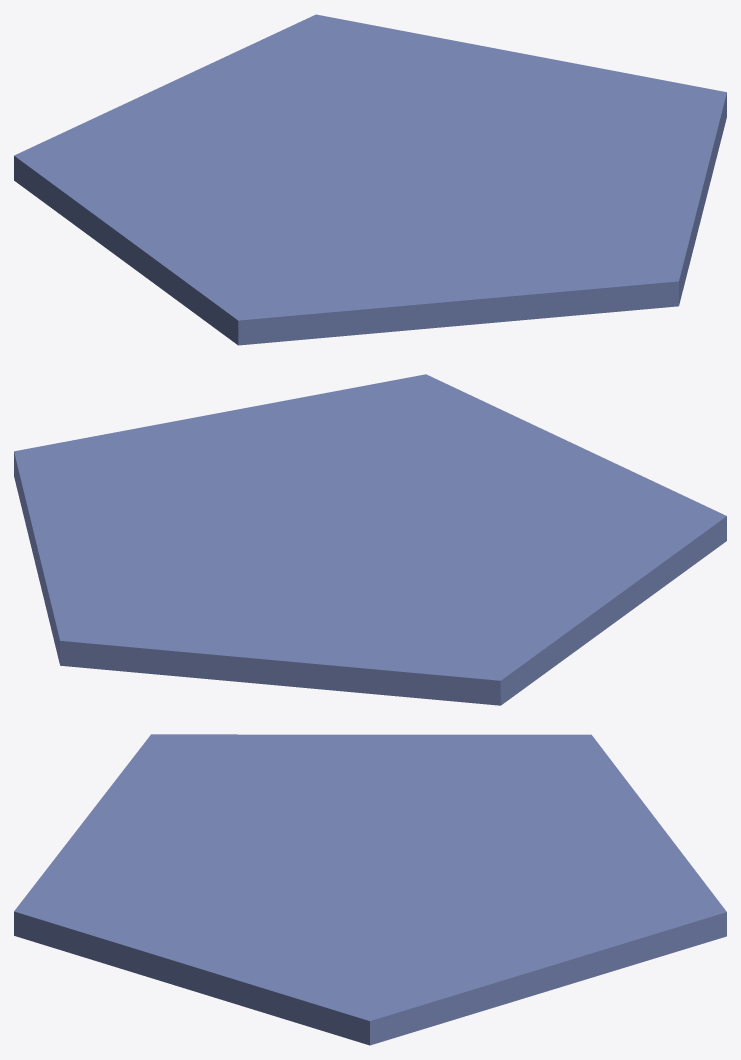
Rendered from Pentagon_Turret_Base.fbx.
3 renders of one model, top to bottom at view 1: azimuth 30°, elevation 25°; view 2: azimuth 150°, elevation 25°; view 3: azimuth 270°, elevation 25°, orthographic. The views are drawn at different scales.
Visible parts, largest first — view 1: polySurface33; view 2: polySurface33; view 3: polySurface33.
Part boxes in pixels (box(x1,y1,x2,y2)): polySurface33: box(14, 14, 726, 345); polySurface33: box(14, 374, 726, 705); polySurface33: box(14, 734, 726, 1045).
Bounding box in the file's own units: 3.21 × 0.1272 × 3.37.
